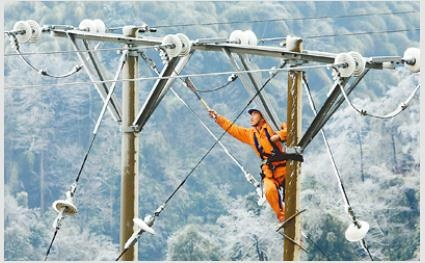blue: (246, 102, 266, 127)
